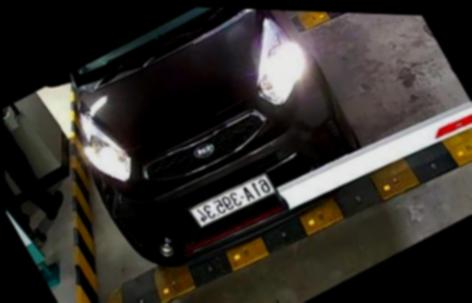License_Plate: (187, 171, 277, 231)
